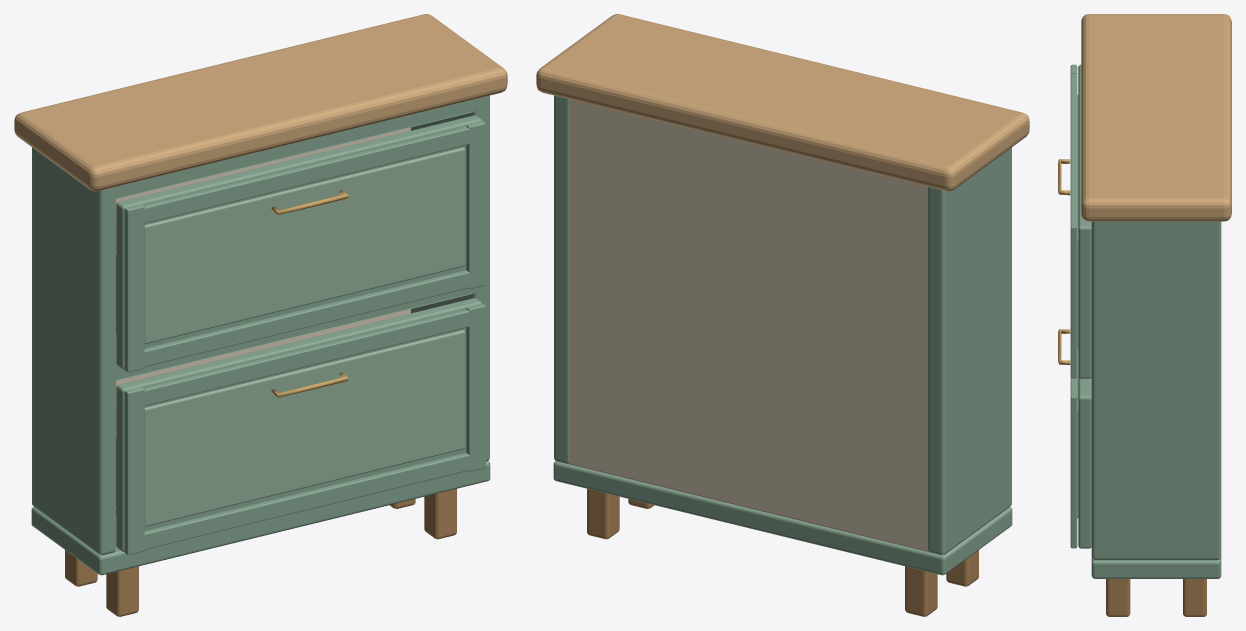
File: Shoe_Cabinet.glb
The picture shows the model from 3 angles, left to right: view 1: azimuth 30°, elevation 25°; view 2: azimuth 150°, elevation 25°; view 3: azimuth 270°, elevation 25°; orthographic projection. The views are drawn at different scales.
Parts seen in each view (by area): view 1: Shoe_Cabinet_Mesh, Lid_Tilt_2_Mesh, Lid_Tilt_1_Mesh; view 2: Shoe_Cabinet_Mesh; view 3: Shoe_Cabinet_Mesh, Lid_Tilt_2_Mesh, Lid_Tilt_1_Mesh.
Boxes of the visible parts, x1,y1,x2,y2 form: Shoe_Cabinet_Mesh: [14, 14, 507, 616]; Lid_Tilt_2_Mesh: [116, 115, 485, 372]; Lid_Tilt_1_Mesh: [116, 298, 485, 555]; Shoe_Cabinet_Mesh: [536, 14, 1029, 616]; Shoe_Cabinet_Mesh: [1081, 14, 1231, 616]; Lid_Tilt_2_Mesh: [1058, 64, 1091, 378]; Lid_Tilt_1_Mesh: [1058, 329, 1091, 548].
Size of the model in its own units: 1.11 by 1.18 by 0.429.
